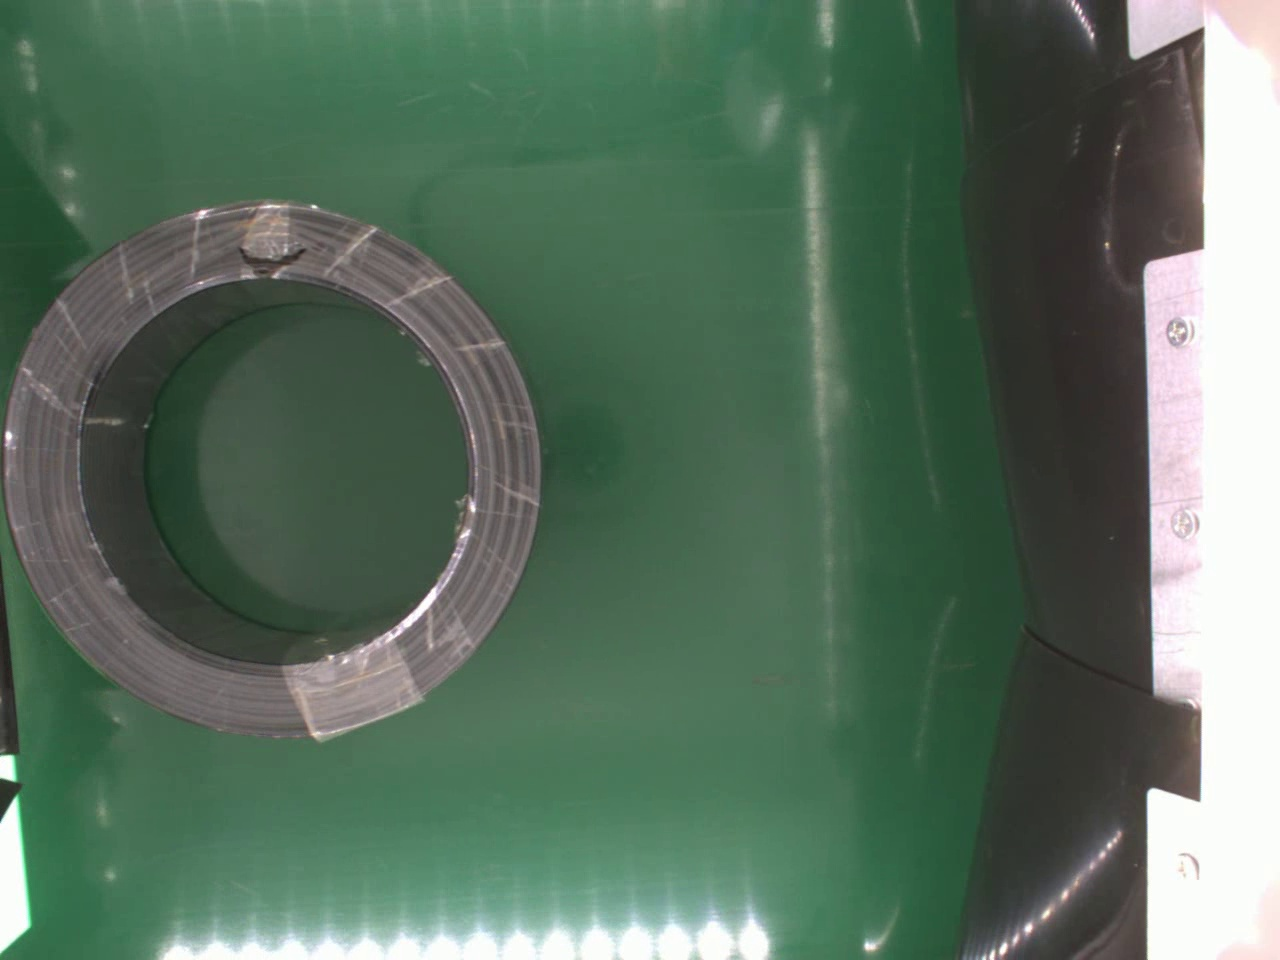black: (6, 196, 548, 737)
